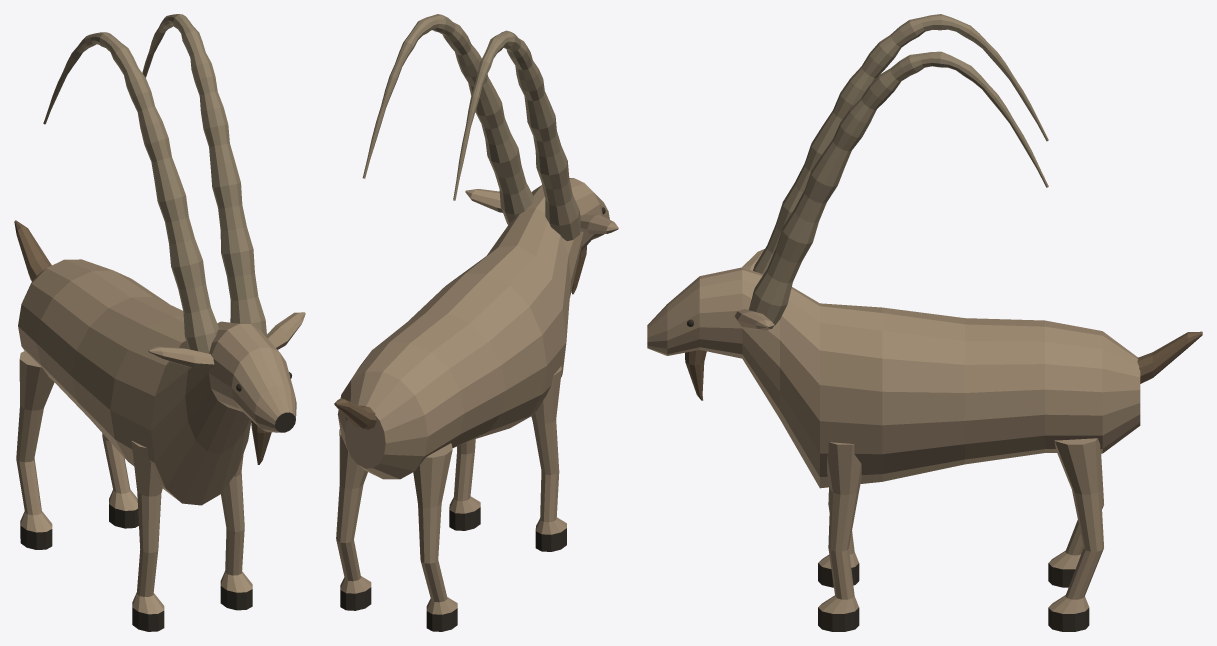
The picture shows the model from 3 angles, left to right: view 1: azimuth 30°, elevation 25°; view 2: azimuth 150°, elevation 25°; view 3: azimuth 270°, elevation 25°; orthographic projection. The views are drawn at different scales.
Visible parts, largest first — view 1: WholeNarrowMuzzleAscendingNeckHighChestAndTuckedTorso, WholeLongBackwardArchedRidgedHorn0, WholeLongBackwardArchedRidgedHorn1, WholeBentLongLegAndBroadHoof0_1, WholeBentLongLegAndBroadHoof0_0, WholeBentLongLegAndBroadHoof1_0, WholeBentLongLegAndBroadHoof1_1, WholeShortRaisedTail, WholeSmallOutwardTaperedEar0, WholeSmallOutwardTaperedEar1, WholeSmallTaperingChinBeard; view 2: WholeNarrowMuzzleAscendingNeckHighChestAndTuckedTorso, WholeLongBackwardArchedRidgedHorn0, WholeLongBackwardArchedRidgedHorn1, WholeBentLongLegAndBroadHoof0_1, WholeBentLongLegAndBroadHoof1_1, WholeBentLongLegAndBroadHoof0_0, WholeBentLongLegAndBroadHoof1_0, WholeShortRaisedTail, WholeSmallOutwardTaperedEar0, WholeSmallOutwardTaperedEar1; view 3: WholeNarrowMuzzleAscendingNeckHighChestAndTuckedTorso, WholeLongBackwardArchedRidgedHorn1, WholeLongBackwardArchedRidgedHorn0, WholeBentLongLegAndBroadHoof1_1, WholeBentLongLegAndBroadHoof1_0, WholeBentLongLegAndBroadHoof0_1, WholeShortRaisedTail, WholeBentLongLegAndBroadHoof0_0.
Part boxes in pixels (bbox=[...]): WholeNarrowMuzzleAscendingNeckHighChestAndTuckedTorso: bbox=[18, 259, 296, 505]; WholeLongBackwardArchedRidgedHorn0: bbox=[43, 32, 218, 353]; WholeLongBackwardArchedRidgedHorn1: bbox=[142, 14, 266, 335]; WholeBentLongLegAndBroadHoof0_1: bbox=[16, 351, 54, 549]; WholeBentLongLegAndBroadHoof0_0: bbox=[131, 441, 164, 631]; WholeBentLongLegAndBroadHoof1_0: bbox=[220, 454, 252, 610]; WholeBentLongLegAndBroadHoof1_1: bbox=[102, 433, 138, 528]; WholeShortRaisedTail: bbox=[14, 220, 51, 281]; WholeSmallOutwardTaperedEar0: bbox=[148, 346, 214, 368]; WholeSmallOutwardTaperedEar1: bbox=[266, 312, 305, 349]; WholeSmallTaperingChinBeard: bbox=[250, 419, 271, 464]; WholeNarrowMuzzleAscendingNeckHighChestAndTuckedTorso: bbox=[337, 178, 609, 479]; WholeLongBackwardArchedRidgedHorn0: bbox=[453, 30, 580, 240]; WholeLongBackwardArchedRidgedHorn1: bbox=[362, 14, 534, 224]; WholeBentLongLegAndBroadHoof0_1: bbox=[413, 443, 457, 631]; WholeBentLongLegAndBroadHoof1_1: bbox=[336, 429, 371, 610]; WholeBentLongLegAndBroadHoof0_0: bbox=[531, 366, 566, 551]; WholeBentLongLegAndBroadHoof1_0: bbox=[449, 439, 480, 530]; WholeShortRaisedTail: bbox=[334, 398, 376, 429]; WholeSmallOutwardTaperedEar0: bbox=[580, 214, 618, 234]; WholeSmallOutwardTaperedEar1: bbox=[465, 189, 502, 212]; WholeNarrowMuzzleAscendingNeckHighChestAndTuckedTorso: bbox=[647, 267, 1140, 488]; WholeLongBackwardArchedRidgedHorn1: bbox=[748, 51, 1048, 325]; WholeLongBackwardArchedRidgedHorn0: bbox=[753, 14, 1048, 274]; WholeBentLongLegAndBroadHoof1_1: bbox=[1048, 438, 1103, 631]; WholeBentLongLegAndBroadHoof1_0: bbox=[818, 442, 861, 631]; WholeBentLongLegAndBroadHoof0_1: bbox=[1048, 453, 1103, 587]; WholeShortRaisedTail: bbox=[1137, 331, 1202, 383]; WholeBentLongLegAndBroadHoof0_0: bbox=[818, 487, 859, 587].
Size of the model in its own units: 0.74 by 2.51 by 2.22.
